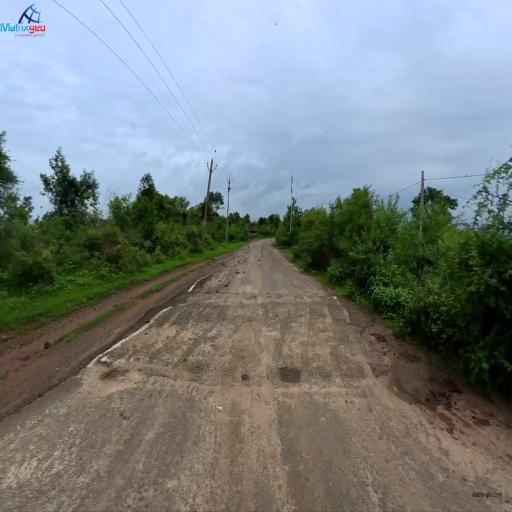ravelling: (141, 355, 269, 486)
